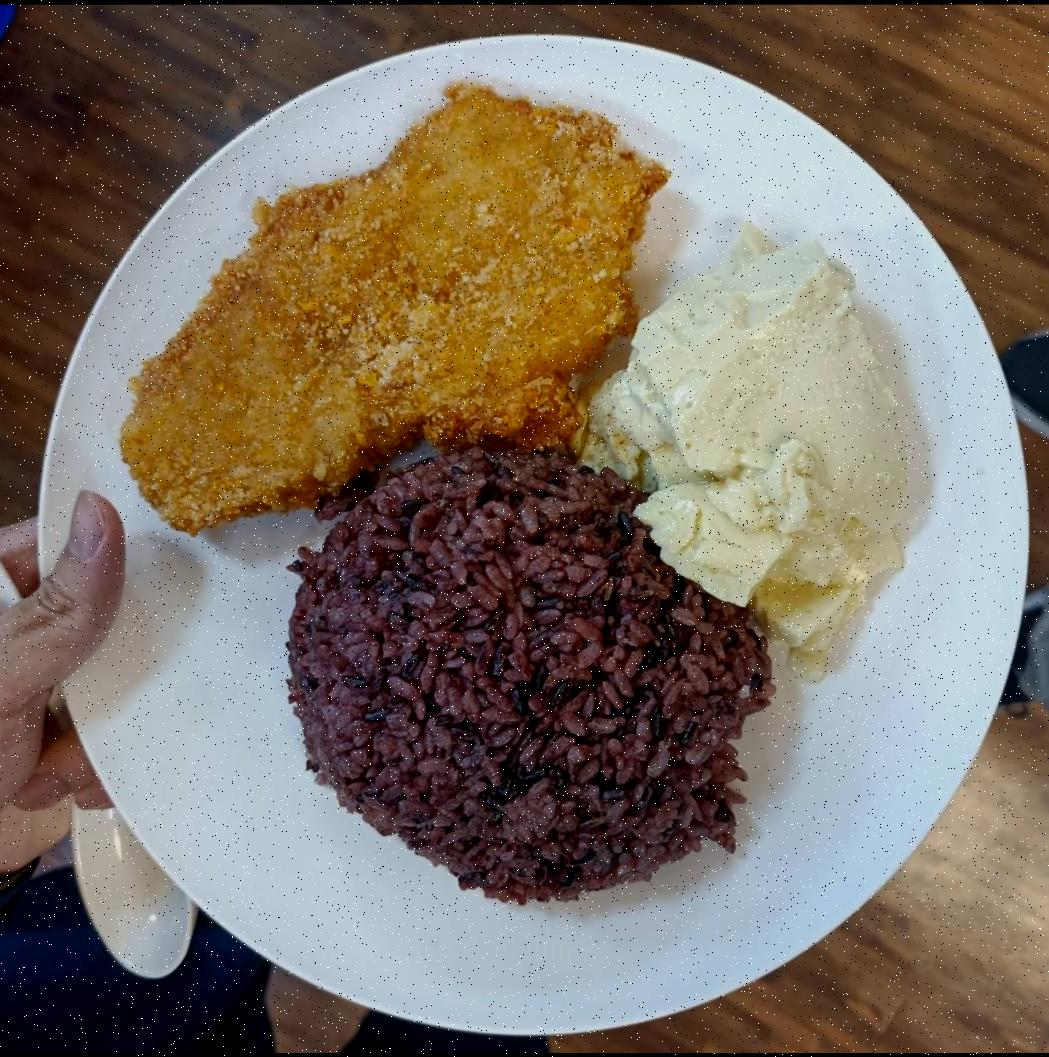chicken steak: (116, 65, 656, 546)
plate: (27, 22, 1022, 1040)
purple rice: (278, 442, 748, 904)
side dish: (591, 202, 926, 682)
